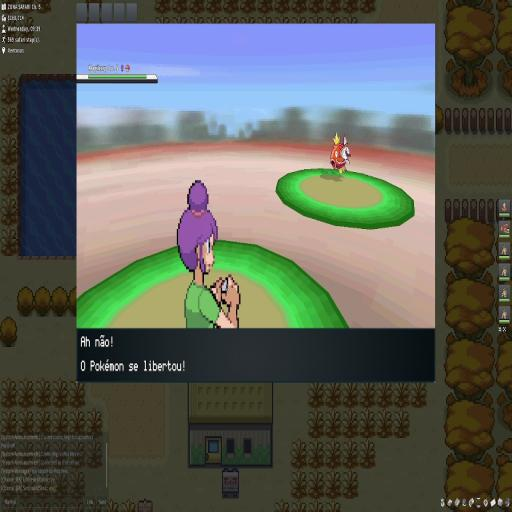MAGIKARP: (329, 132, 352, 178)
